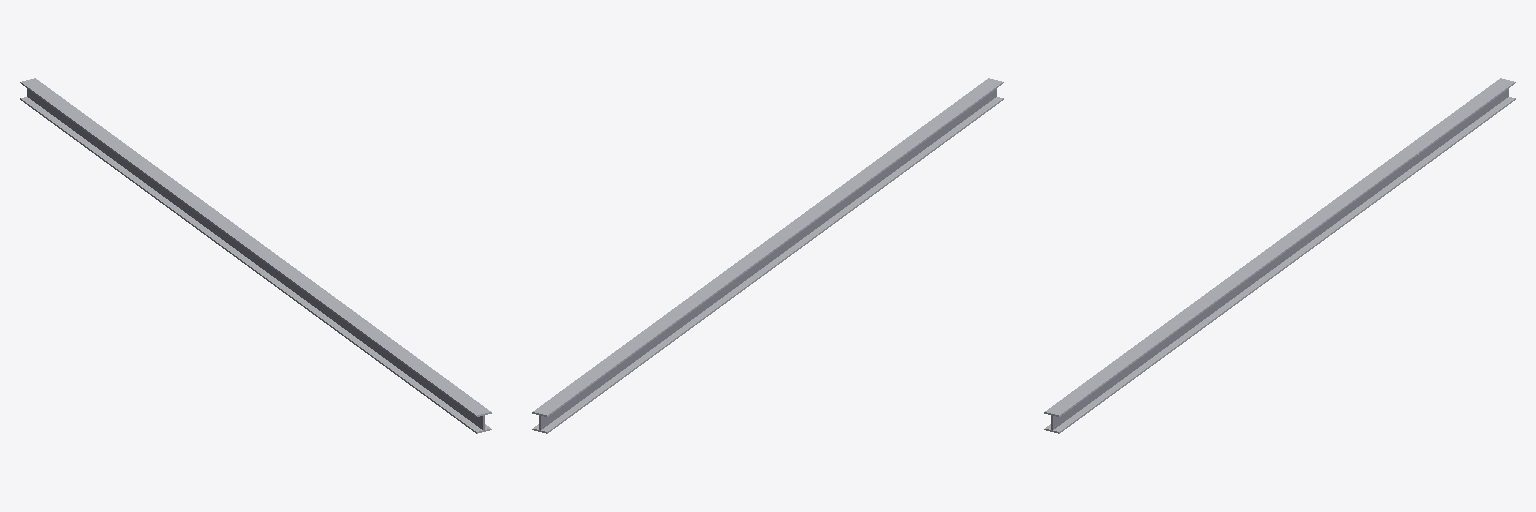
URDF robot description (h_bar):
<?xml version="1.0" ?>
<!-- =================================================================================== -->
<!-- |    This document was autogenerated by xacro from h_bar.xacro                    | -->
<!-- |    EDITING THIS FILE BY HAND IS NOT RECOMMENDED                                 | -->
<!-- =================================================================================== -->
<robot name="h_bar">
  <link name="world"/>
  <!-- Bottom leg (aligned with z-axis after rotation, below origin) -->
  <link name="hbar_bottom_leg">
    <visual>
      <origin rpy="0 1.57079633 0" xyz="0 0 0"/>
      <geometry>
        <!-- thickness x, profile width y, leg length along local z -->
        <box size="0.01 5.0 0.095"/>
      </geometry>
      <material name="hbar_material_bottom">
        <!-- Brushed steel-like gray -->
        <color rgba="0.75 0.75 0.78 1.0"/>
      </material>
    </visual>
    <collision>
      <origin rpy="0 1.57079633 0" xyz="0 0 0"/>
      <geometry>
        <box size="0.01 5.0 0.095"/>
      </geometry>
    </collision>
    <inertial>
      <origin rpy="0 0 0" xyz="0 0 0"/>
      <mass value="0.3333333333333333"/>
      <inertia ixx="0.6946951388888889" ixy="0.0" ixz="0.0" iyy="0.0002534722222222222" iyz="0.0" izz="0.6944472222222222"/>
    </inertial>
  </link>
  <!-- Top leg (aligned with z-axis after rotation, above origin) -->
  <link name="hbar_top_leg">
    <visual>
      <origin rpy="0 1.57079633 0" xyz="0 0 0"/>
      <geometry>
        <box size="0.01 5.0 0.095"/>
      </geometry>
      <material name="hbar_material_top">
        <!-- Brushed steel-like gray -->
        <color rgba="0.75 0.75 0.78 1.0"/>
      </material>
    </visual>
    <collision>
      <origin rpy="0 1.57079633 0" xyz="0 0 0"/>
      <geometry>
        <box size="0.01 5.0 0.095"/>
      </geometry>
    </collision>
    <inertial>
      <origin rpy="0 0 0" xyz="0 0 0"/>
      <mass value="0.3333333333333333"/>
      <inertia ixx="0.6946951388888889" ixy="0.0" ixz="0.0" iyy="0.0002534722222222222" iyz="0.0" izz="0.6944472222222222"/>
    </inertial>
  </link>
  <!-- Crossbar: vertical (aligned with z-axis) at the origin -->
  <link name="hbar_crossbar">
    <visual>
      <!-- Thickness in x,y, length in z -->
      <origin rpy="0 0 0" xyz="0 0 0"/>
      <geometry>
        <box size="0.01 5.0 0.1"/>
      </geometry>
      <material name="hbar_material_cross">
        <!-- Slightly darker steel for visual contrast -->
        <color rgba="0.65 0.65 0.7 1.0"/>
      </material>
    </visual>
    <collision>
      <origin rpy="0 0 0" xyz="0 0 0"/>
      <geometry>
        <box size="0.01 5.0 0.1"/>
      </geometry>
    </collision>
    <inertial>
      <origin rpy="0 0 0" xyz="0 0 0"/>
      <mass value="0.3333333333333333"/>
      <inertia ixx="0.6947222222222222" ixy="0.0" ixz="0.0" iyy="0.0002805555555555556" iyz="0.0" izz="0.6944472222222222"/>
    </inertial>
  </link>
  <!-- Fix crossbar to world; its center is at the macro pose -->
  <joint name="hbar_cross_fix" type="fixed">
    <parent link="world"/>
    <child link="hbar_crossbar"/>
    <origin rpy="0 0 0" xyz="0 0 0"/>
  </joint>
  <!-- Top leg: translated +L_leg/2 in x and +L_span/2 in z relative to crossbar -->
  <joint name="hbar_top_fix" type="fixed">
    <parent link="hbar_crossbar"/>
    <child link="hbar_top_leg"/>
    <origin rpy="0 0.0 0" xyz="0 0 0.05"/>
  </joint>
  <!-- Bottom leg: translated +L_leg/2 in x and -L_span/2 in z relative to crossbar -->
  <joint name="hbar_bottom_fix" type="fixed">
    <parent link="hbar_crossbar"/>
    <child link="hbar_bottom_leg"/>
    <origin rpy="0 0 0" xyz="0 0 -0.05"/>
  </joint>
</robot>

--- Render facts (derived) ---
3 views of the same robot in one strip: view 1: azimuth 30°, elevation 25°; view 2: azimuth 150°, elevation 25°; view 3: azimuth 330°, elevation 25° (orthographic).
Model h_bar with 4 links and 3 joints (3 fixed), rooted at world, posed all joints at 0.
Links seen in each view (by area): view 1: hbar_top_leg, hbar_crossbar, hbar_bottom_leg; view 2: hbar_top_leg, hbar_crossbar, hbar_bottom_leg; view 3: hbar_top_leg, hbar_crossbar, hbar_bottom_leg.
Link boxes in pixels (x1,y1,x2,y2): hbar_top_leg: [20, 78, 491, 416]; hbar_crossbar: [27, 89, 484, 430]; hbar_bottom_leg: [20, 97, 491, 433]; hbar_top_leg: [532, 78, 1003, 416]; hbar_crossbar: [539, 89, 996, 429]; hbar_bottom_leg: [532, 97, 1003, 433]; hbar_top_leg: [1044, 78, 1515, 416]; hbar_crossbar: [1051, 89, 1508, 429]; hbar_bottom_leg: [1044, 97, 1515, 433].
Bounding box of the posed robot: 0.095 × 5 × 0.11 m (x, y, z).
Geometry: primitives only (box / cylinder / sphere), no mesh files.
